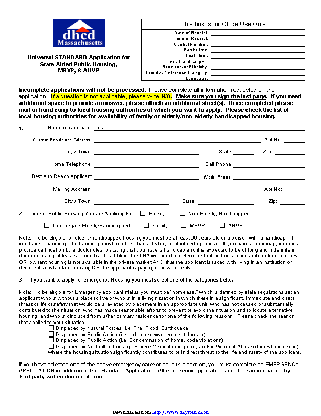checkbox: (48, 336, 55, 343), (181, 221, 187, 229), (143, 222, 150, 228), (48, 331, 55, 337), (48, 343, 55, 349), (44, 222, 50, 228), (140, 210, 146, 216), (180, 210, 186, 216), (220, 222, 226, 228), (48, 325, 55, 330)
textline: (103, 124, 307, 132), (93, 184, 262, 193), (93, 135, 263, 143), (94, 172, 200, 180), (93, 161, 199, 168), (93, 196, 171, 205), (210, 41, 305, 48), (211, 53, 305, 60), (94, 149, 201, 155), (233, 160, 306, 168), (233, 172, 306, 180), (210, 30, 305, 36), (210, 76, 305, 82), (211, 48, 305, 54), (211, 59, 305, 65), (210, 70, 304, 76), (197, 197, 255, 206), (211, 36, 305, 41), (211, 65, 305, 70), (276, 147, 306, 155), (279, 197, 307, 205), (233, 148, 256, 155), (284, 136, 306, 143), (284, 185, 306, 192)
